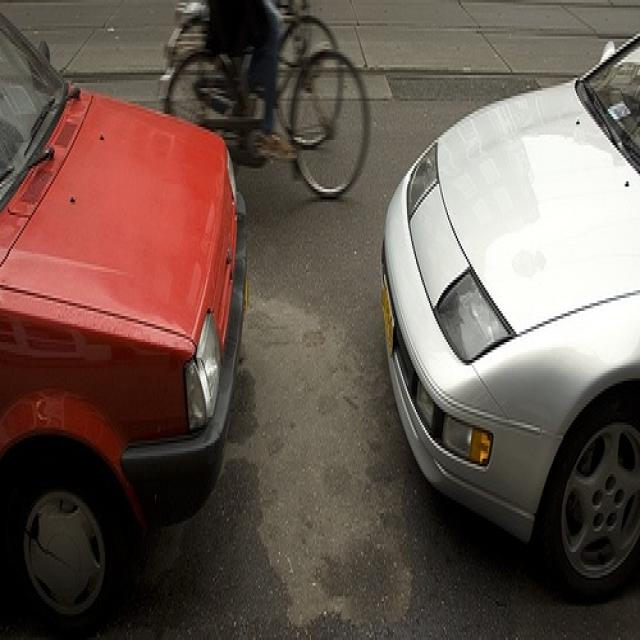bicycle: (158, 8, 372, 204), (162, 3, 344, 150)
car: (1, 10, 250, 630), (378, 29, 638, 601)
